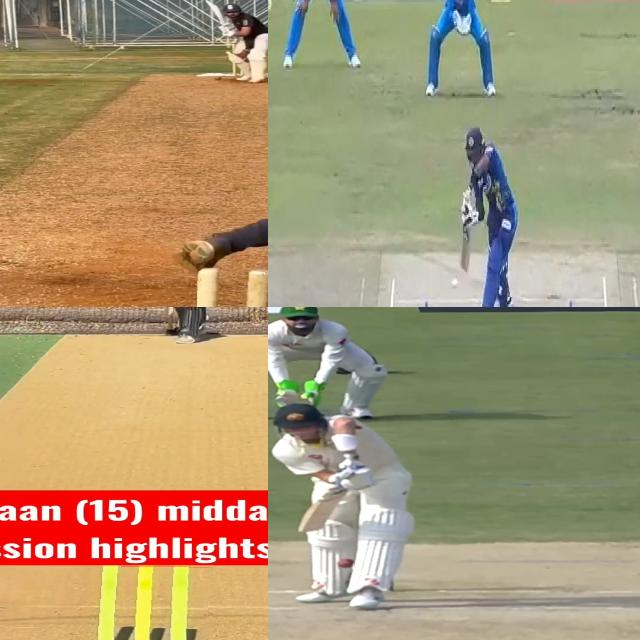Cricket ball: (337, 557, 355, 569), (451, 273, 460, 292), (213, 76, 222, 81)
Stumps: (87, 565, 211, 640)
